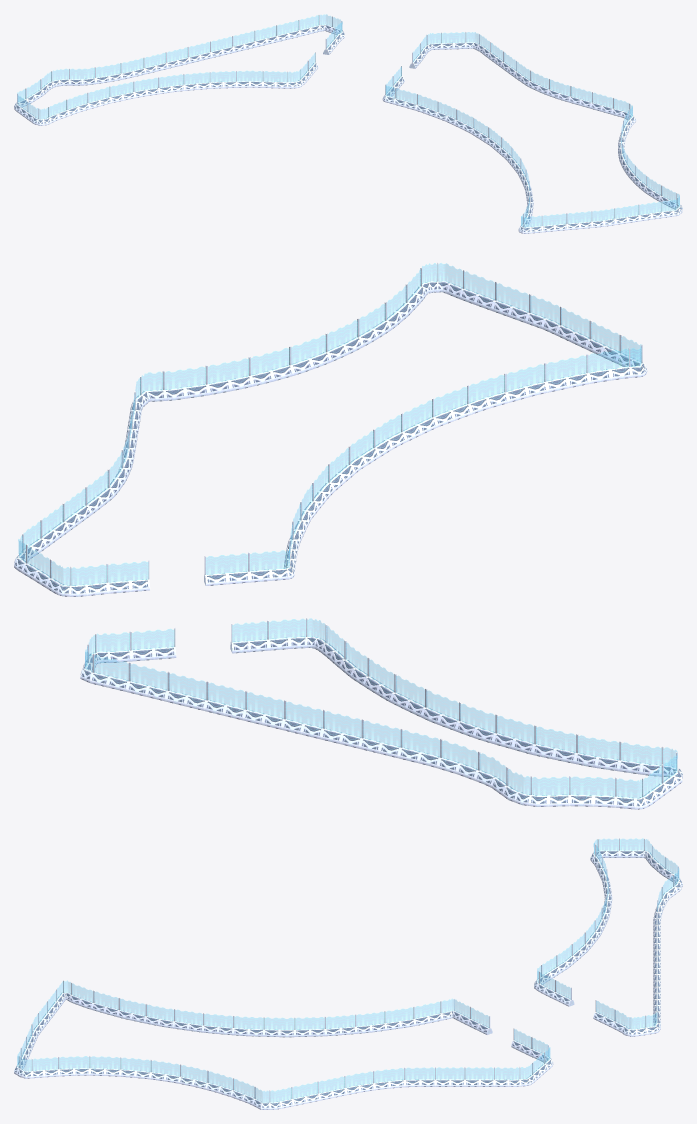
Rendered from obj_fence03.gltf.
The picture shows the model from 3 angles, top to bottom: view 1: azimuth 30°, elevation 25°; view 2: azimuth 150°, elevation 25°; view 3: azimuth 270°, elevation 25°; orthographic projection. The views are drawn at different scales.
Parts seen in each view (by area): view 1: obj_fence03; view 2: obj_fence03; view 3: obj_fence03.
Part boxes in pixels (left/top/right/bottom): obj_fence03: left=14, top=14, right=682, bottom=233; obj_fence03: left=14, top=262, right=682, bottom=809; obj_fence03: left=14, top=838, right=682, bottom=1109.
Size of what is drawn, in the model's own units: 51.4 by 1.71 by 56.96.
2 materials, 2 textured.
